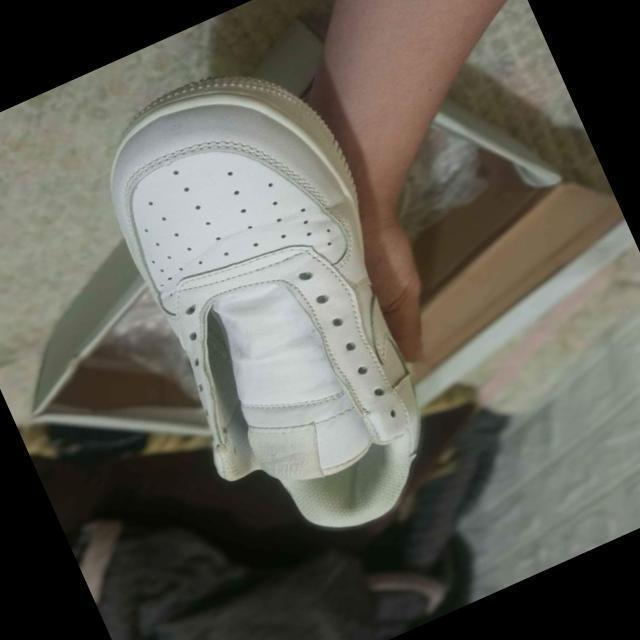nike fake air force: (57, 32, 486, 570)
